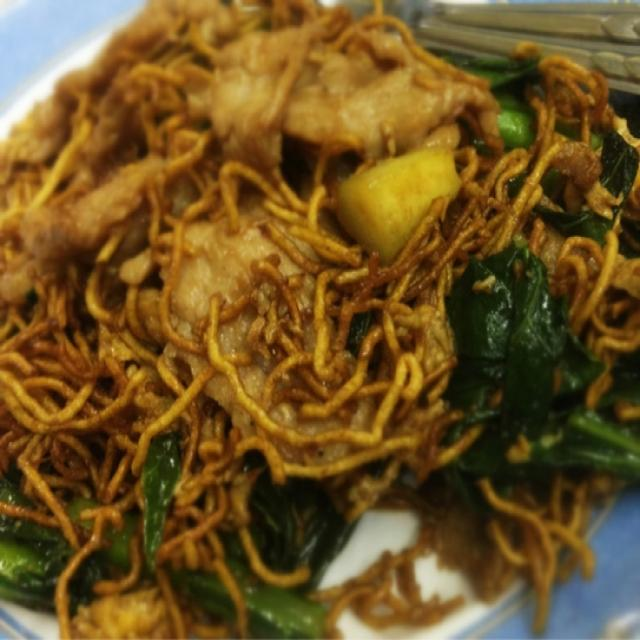面条主食: (12, 21, 595, 623)
